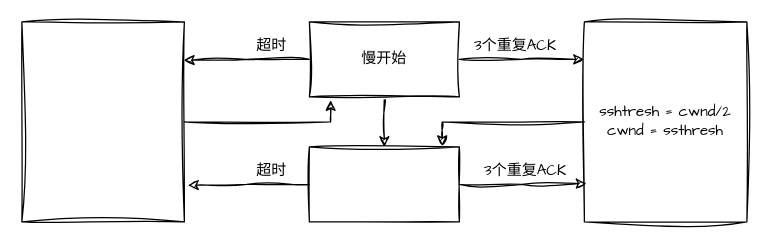
This 769x244 diagram has some shape labels left out. Each missing label, with the centre of its shape:
sshtresh = cwnd/2 cwnd = 1: [102,121]
拥塞避免: [383,184]
